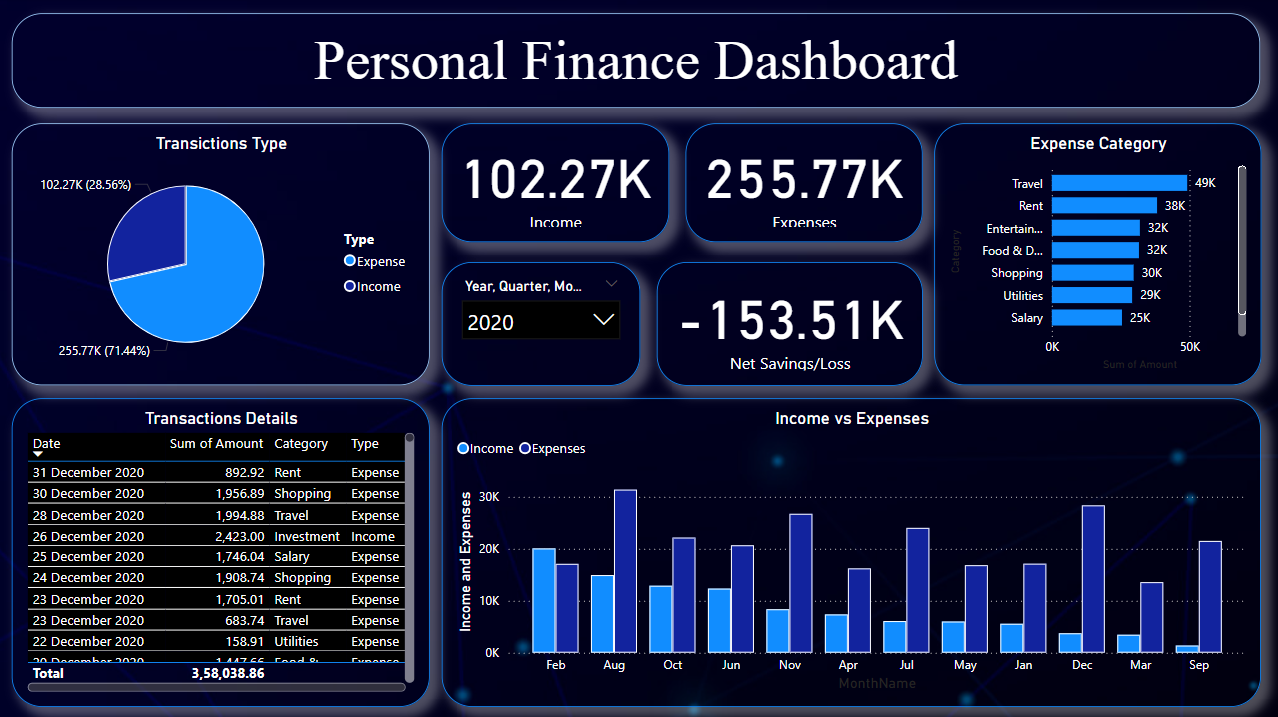

The page's visual inventory and layout, read from the dashboard file:
{"tool":"powerbi","page":{"name":"Page 1","canvas":[1280,720],"ordinal":0},"visuals":[{"type":"pieChart","title":"Transictions Type","fields":{"Y":["Sum(Personal_Finance_Dataset.Amount)"],"Series":["Personal_Finance_Dataset.Type"]},"box":[13.7,126.2,415.8,260.7],"z":0},{"type":"tableEx","title":"Transactions Details","fields":{"Values":["Personal_Finance_Dataset.Date","Sum(Personal_Finance_Dataset.Amount)","Personal_Finance_Dataset.Category","Personal_Finance_Dataset.Type"]},"box":[13.7,399.3,415.8,307.4],"z":1000},{"type":"card","fields":{"Values":["Personal_Finance_Dataset.Total Expenses"]},"box":[684.2,125.6,236.4,118.2],"z":2000},{"type":"card","fields":{"Values":["Personal_Finance_Dataset.Total Income"]},"box":[441.6,125.6,226.4,118.2],"z":3000},{"type":"card","fields":{"Values":["Personal_Finance_Dataset.Net Savings/Loss"]},"box":[655.6,263.7,265,123.2],"z":4000},{"type":"slicer","fields":{"Values":["Date Table.Year Hierarchy.Year","Date Table.Year Hierarchy.Quarter","Date Table.Year Hierarchy.MonthName"]},"box":[441.6,263.7,197.8,123.2],"z":5000},{"type":"barChart","title":"Expense Category","fields":{"Category":["Personal_Finance_Dataset.Category"],"Y":["Sum(Personal_Finance_Dataset.Amount)"]},"box":[931.7,126.2,325.2,260.7],"z":6000},{"type":"clusteredColumnChart","title":"Income vs Expenses ","fields":{"Category":["Date Table.MonthName"],"Y":["Personal_Finance_Dataset.Total Income","Personal_Finance_Dataset.Total Expenses"]},"box":[441.9,399.3,815.1,307.4],"z":7000},{"type":"textbox","box":[13.7,16.2,1242.7,94.5],"z":8000}]}

Visuals, with their boxes in screenshot pixels (x1, y1, x2, y2), scaled from the page's 1280x720 canvas onto the 1278x717 screenshot:
"Transictions Type" pieChart: <region>14, 126, 429, 385</region>
"Transactions Details" tableEx: <region>14, 398, 429, 704</region>
card - Personal_Finance_Dataset.Total Expenses: <region>683, 125, 919, 243</region>
card - Personal_Finance_Dataset.Total Income: <region>441, 125, 667, 243</region>
card - Personal_Finance_Dataset.Net Savings/Loss: <region>655, 263, 919, 385</region>
slicer - Date Table.Year Hierarchy.Year x Date Table.Year Hierarchy.Quarter: <region>441, 263, 638, 385</region>
"Expense Category" barChart: <region>930, 126, 1255, 385</region>
"Income vs Expenses " clusteredColumnChart: <region>441, 398, 1255, 704</region>
textbox: <region>14, 16, 1254, 110</region>
